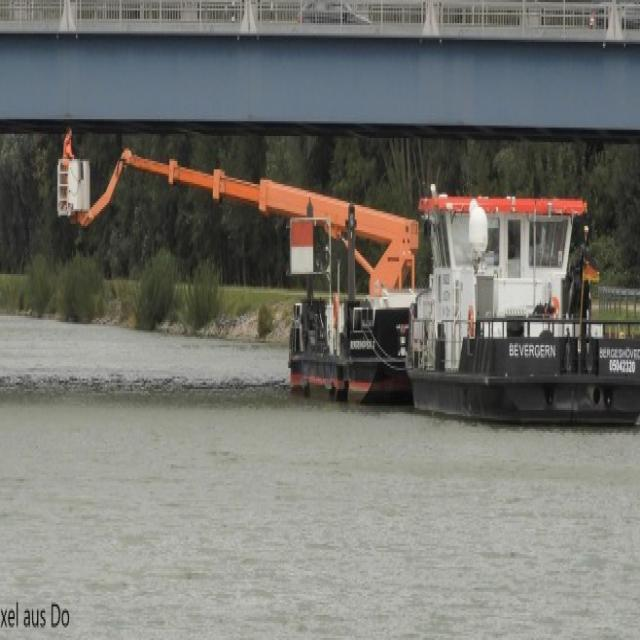tugboat: (400, 181, 640, 440)
